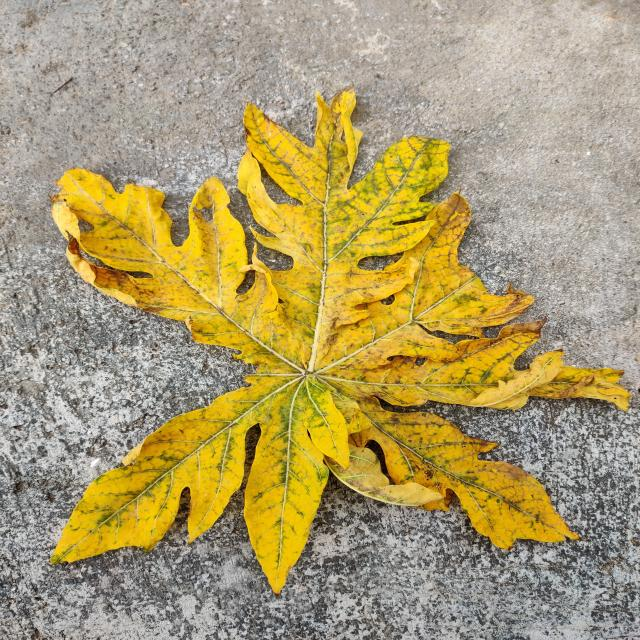fasiation: (52, 89, 630, 592)
